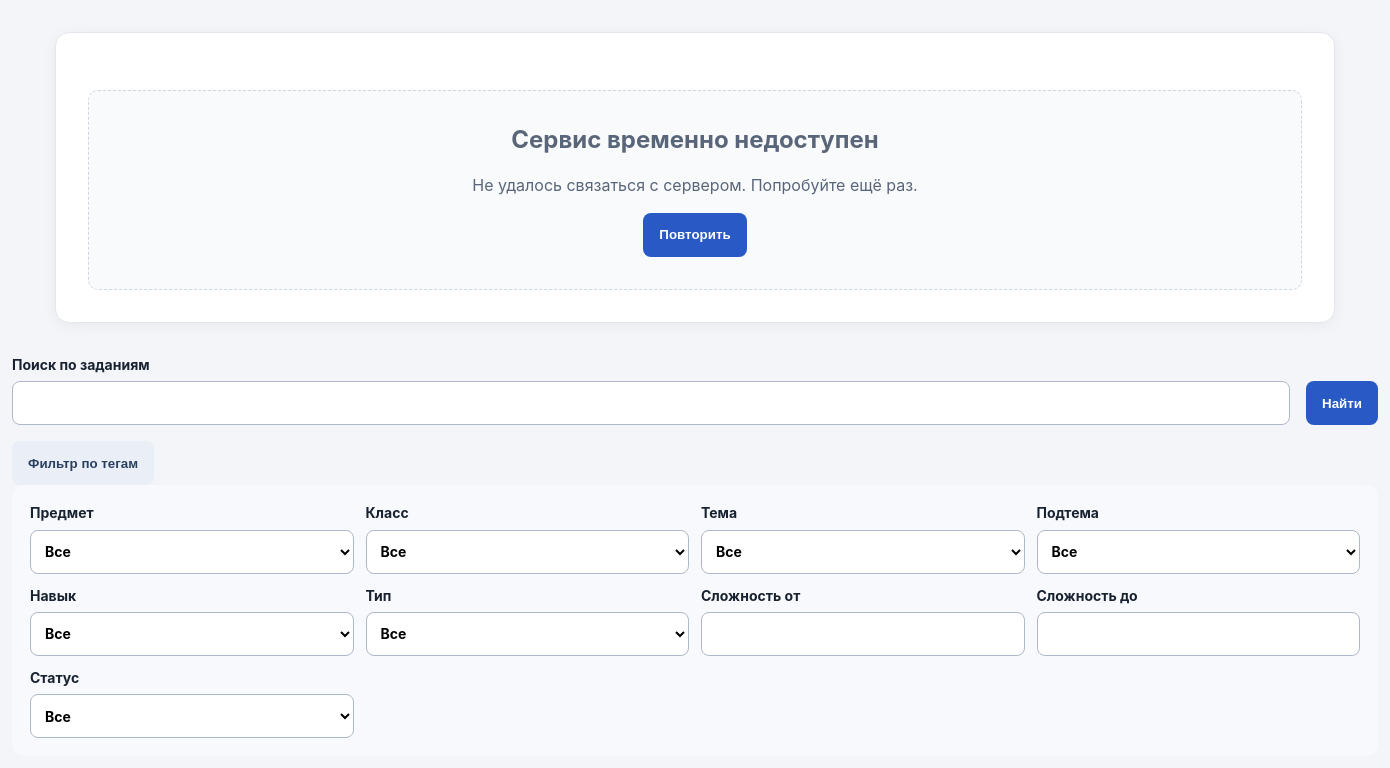
Test case: Content Bank search › offers relevance and makes it the search default
The width and height of the screenshot is (1390, 768).
Type "движение" into the field labelled "Поиск по заданиям" at [651, 403], box [12,381,1290,425]
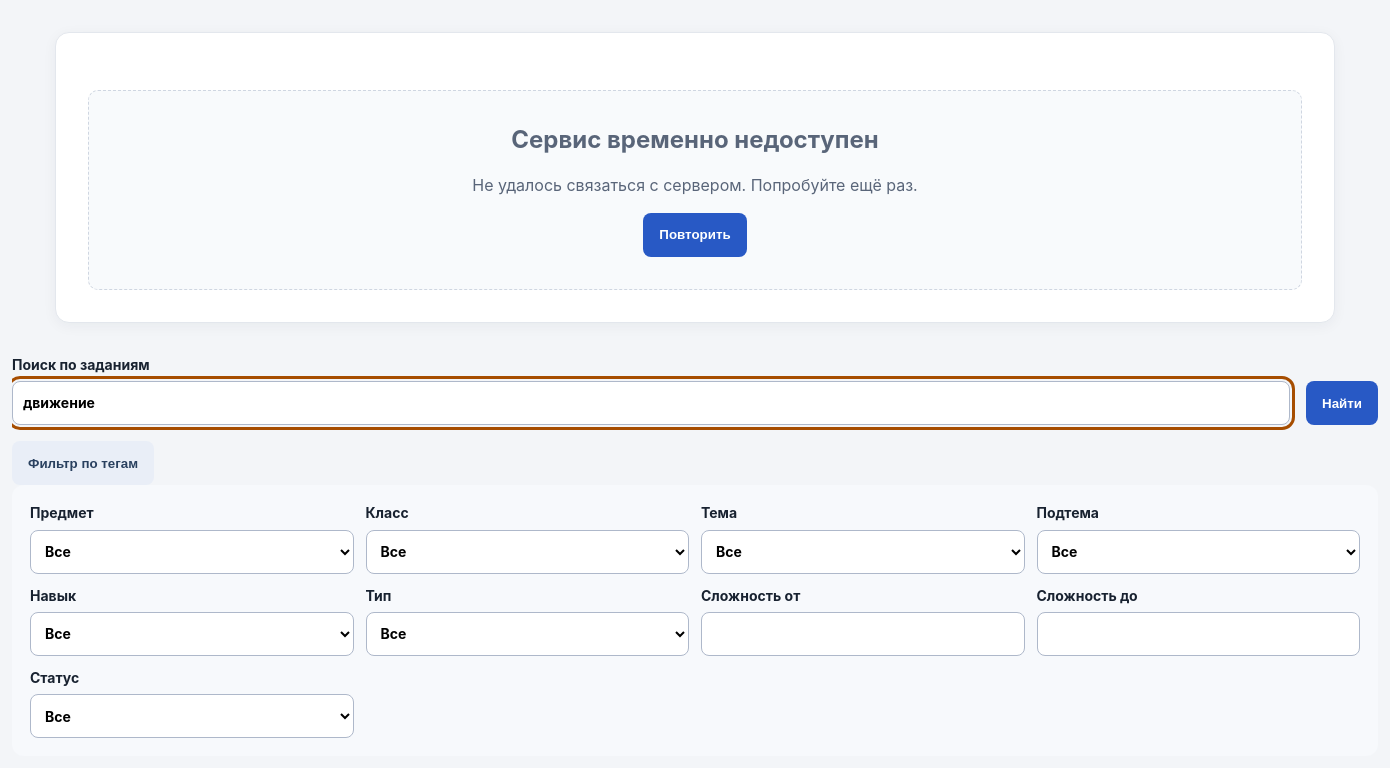
Click the button "Найти" at [1342, 403], box [1306,381,1378,425]
(page scrolled)
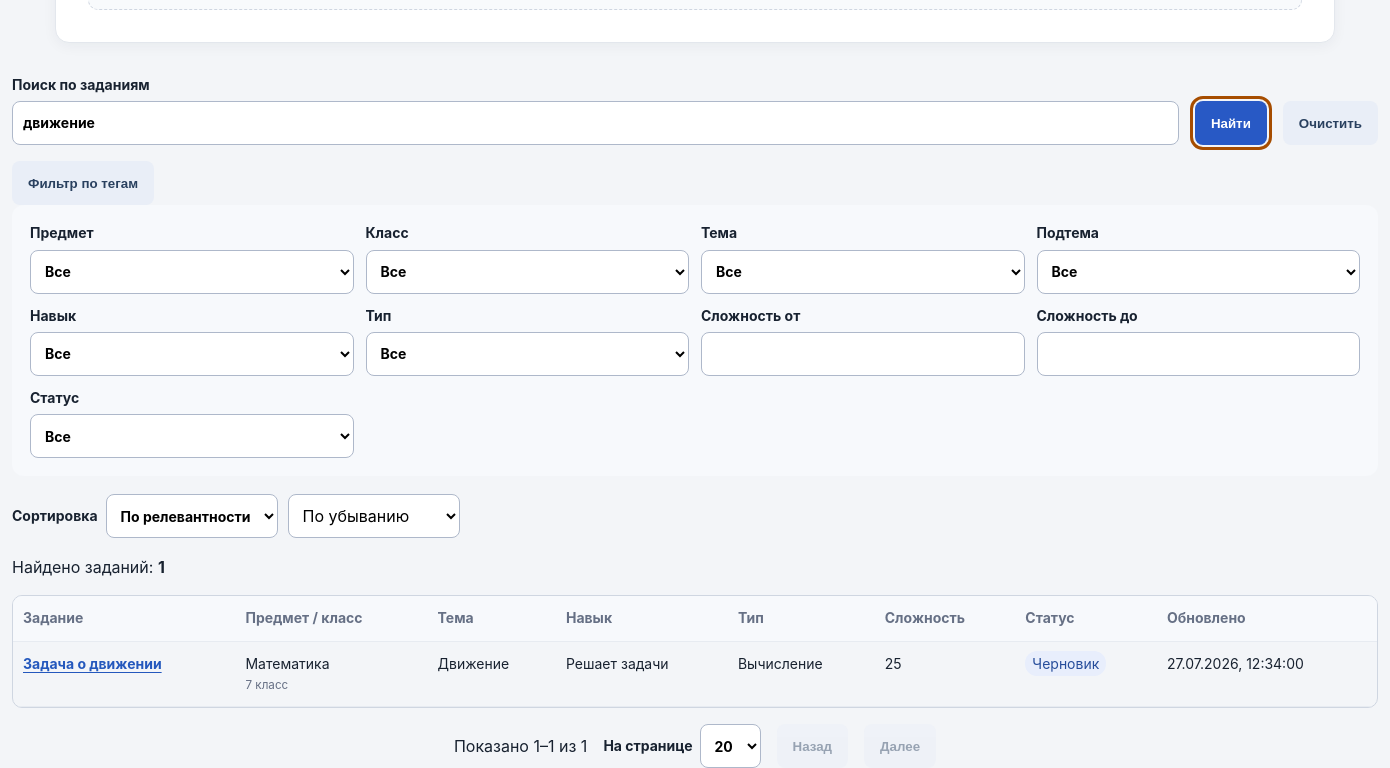
expect the dropdown labelled "Сортировка" shows "По релевантности": met, box [106,494,278,538]
